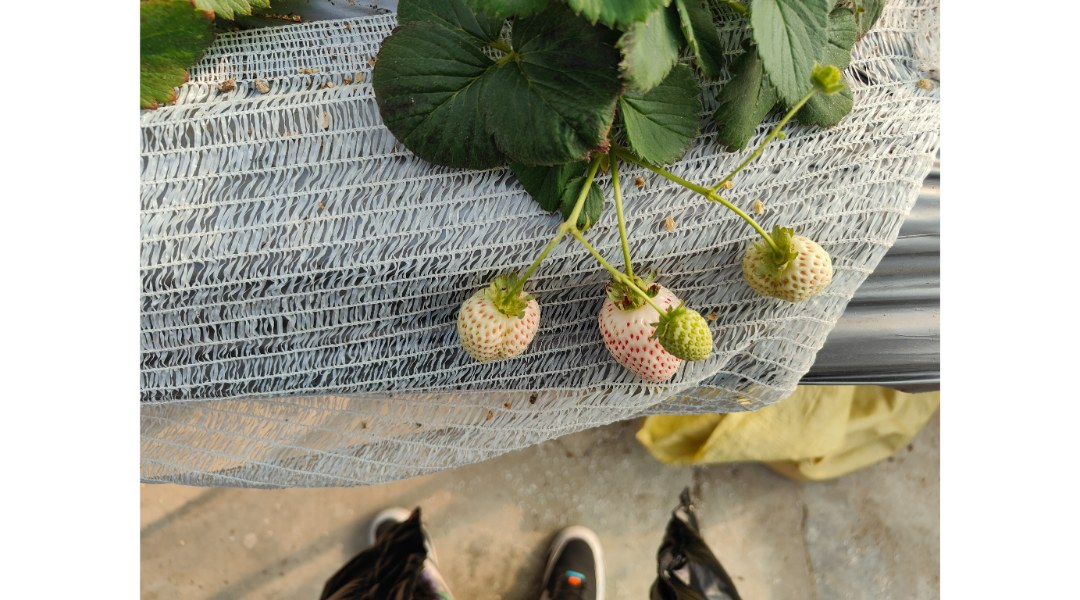berry: (599, 270, 708, 396), (738, 225, 841, 317), (459, 271, 547, 378), (655, 305, 727, 374), (809, 62, 841, 98)
strain: (719, 98, 810, 190), (608, 159, 637, 258), (521, 232, 559, 289), (576, 235, 617, 283), (720, 201, 767, 235), (570, 154, 596, 211), (655, 160, 699, 192)
